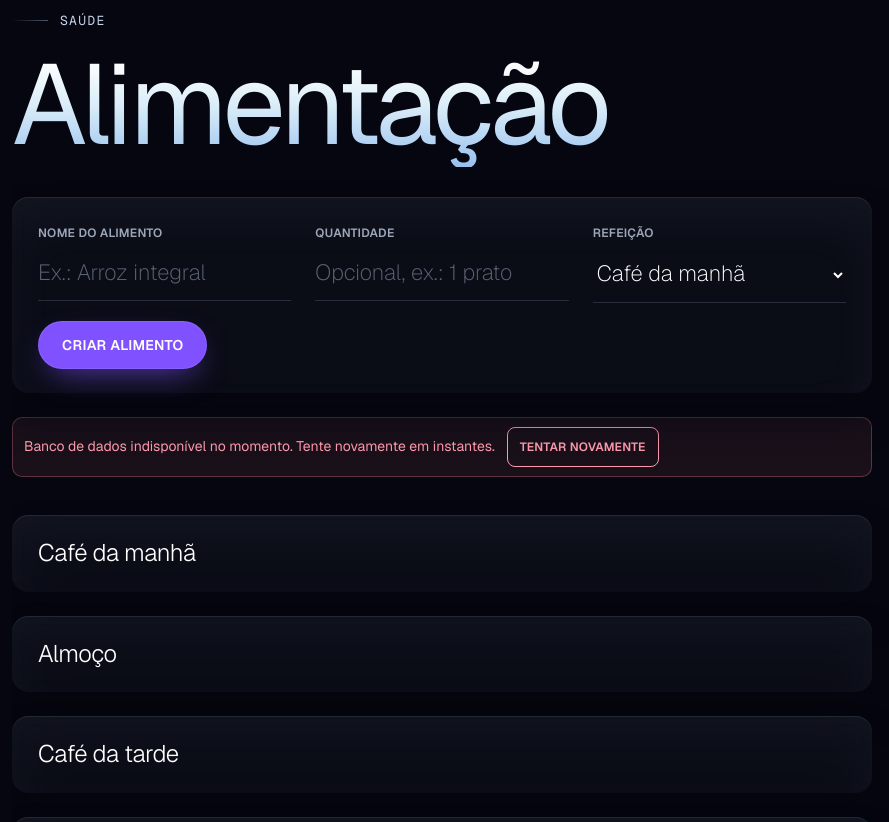
Test: S1 — quatro refeições: estrutura, carregamento e listagem › reports a load error with retry, keeps the sections and never shows the empty state
The width and height of the screenshot is (889, 822).
Check: the message shows "Banco de dados indisponível", box [24, 437, 495, 455]
Check: the text "Nenhum alimento cadastrado." is not shown
Click the button "Tentar novamente": (583, 447) [507, 427, 659, 467]
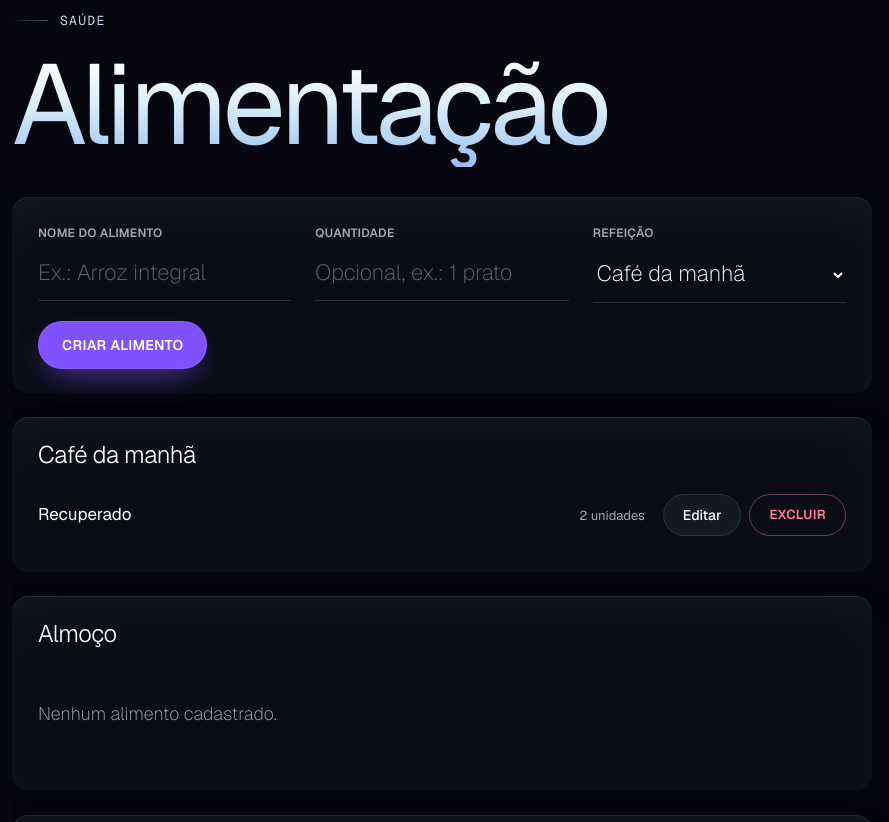
Check: the text "Recuperado" is shown, box [38, 503, 132, 525]
Check: the message is gone
